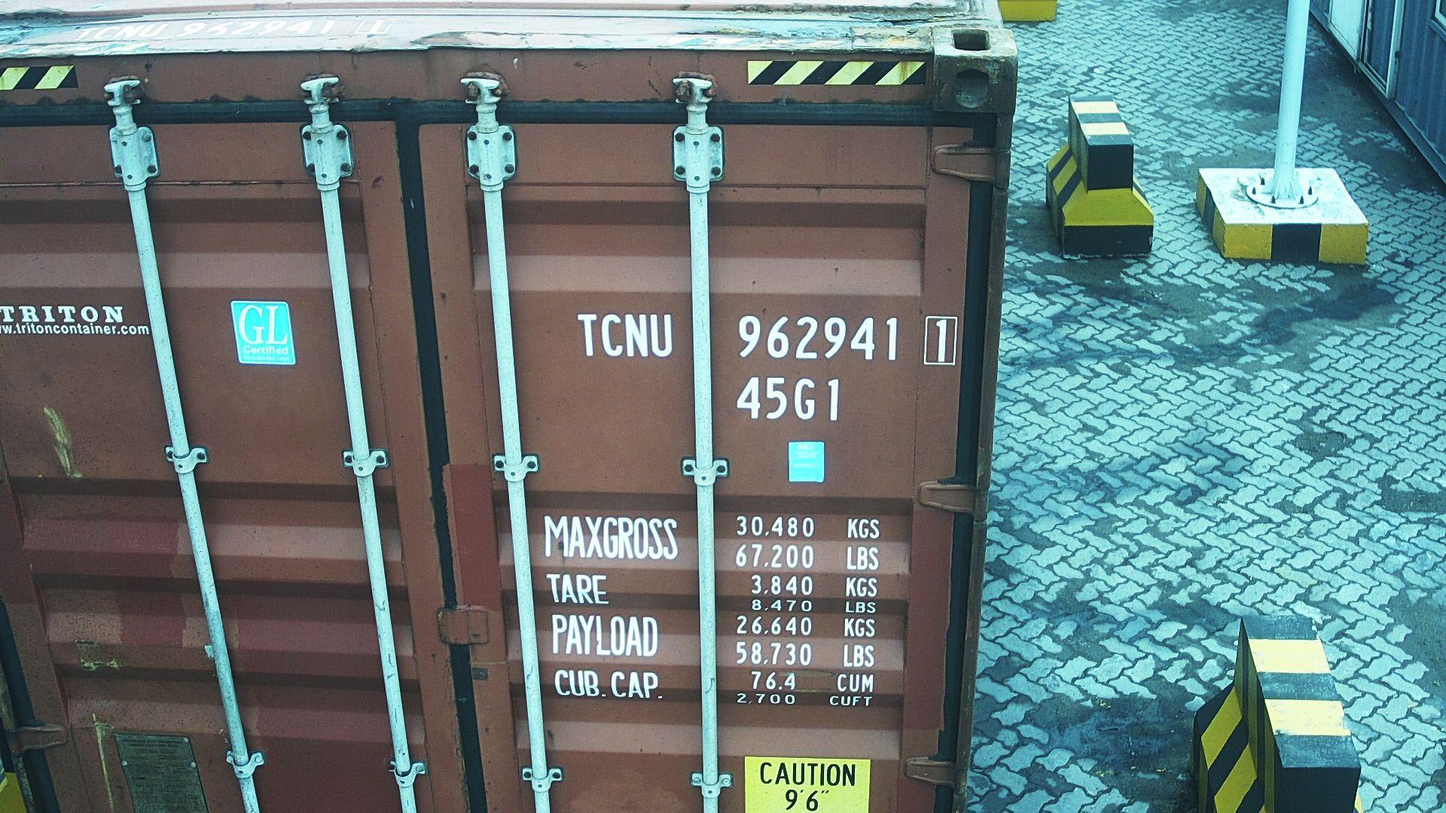container-numbers: (572, 309, 966, 370), (65, 16, 397, 42), (731, 373, 847, 424)
